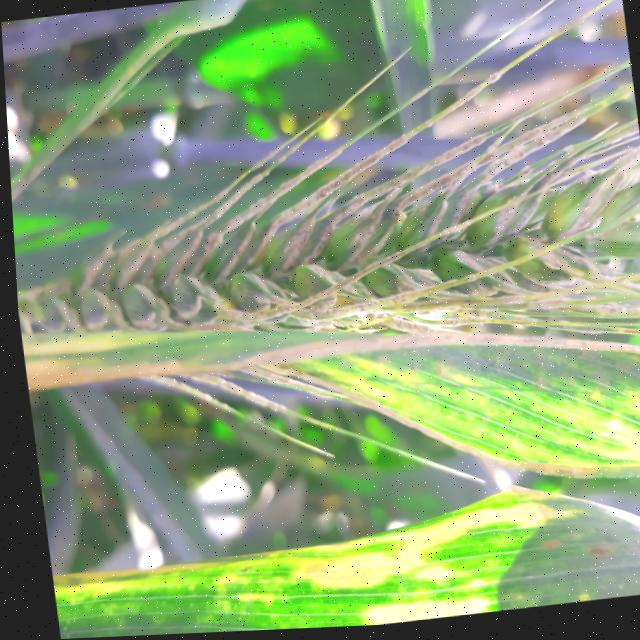powder_mildew: (1, 0, 640, 423), (44, 482, 640, 639), (298, 323, 640, 519)
